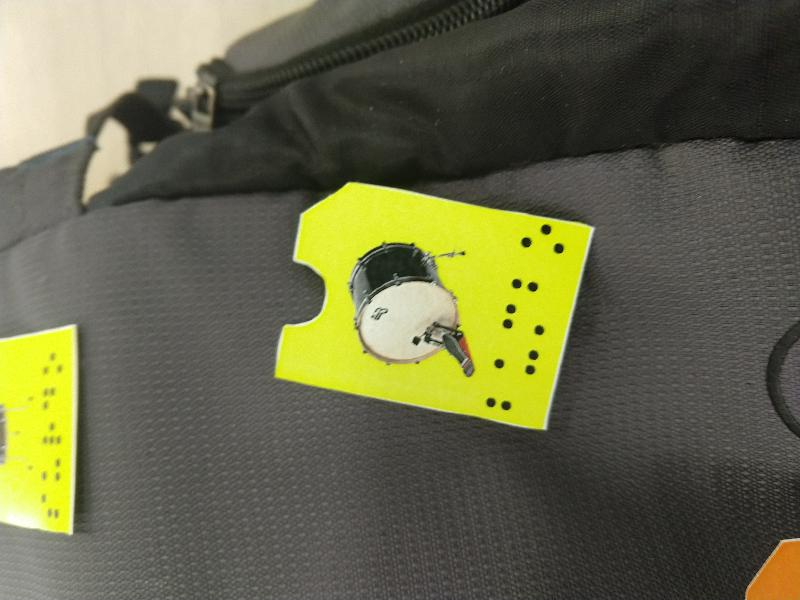bumbo: (276, 172, 595, 436)
